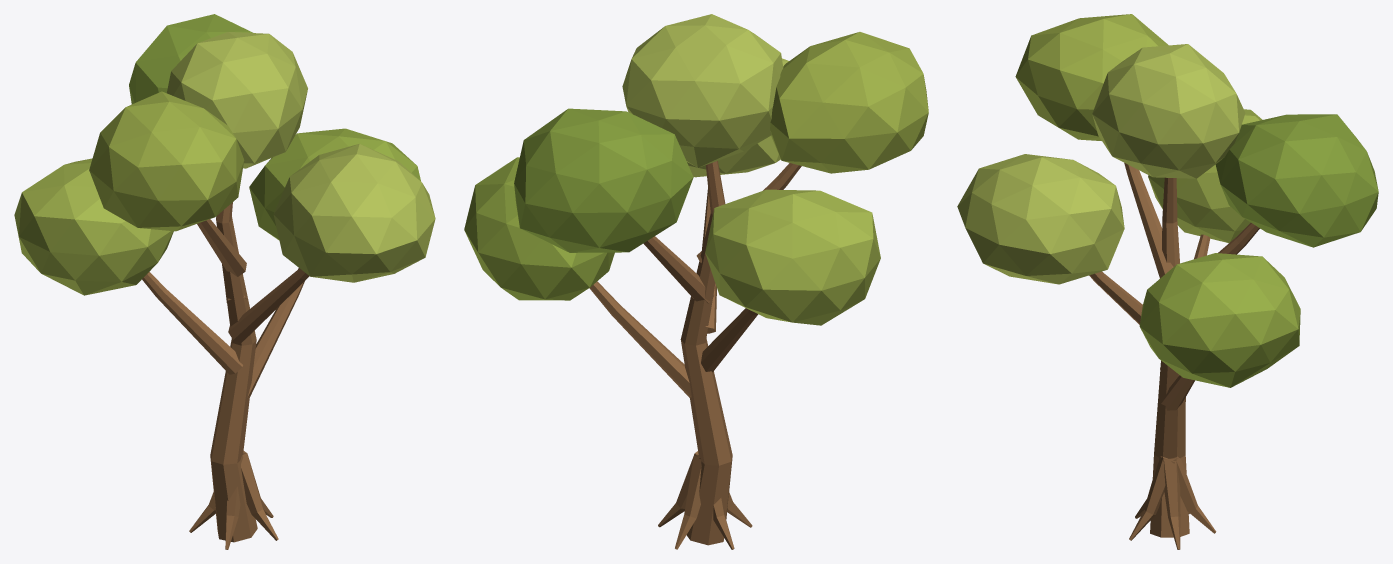
The model's file is Oak_Young.fbx.
The picture shows the model from 3 angles, left to right: view 1: azimuth 30°, elevation 25°; view 2: azimuth 150°, elevation 25°; view 3: azimuth 270°, elevation 25°; orthographic projection. The views are drawn at different scales.
Visible parts, largest first — view 1: Oak_Young; view 2: Oak_Young; view 3: Oak_Young.
Part boxes in pixels (left/top/right/bottom): Oak_Young: left=14, top=14, right=435, bottom=549; Oak_Young: left=464, top=14, right=928, bottom=549; Oak_Young: left=957, top=14, right=1378, bottom=549.
Bounding box in the file's own units: 327 × 401 × 318.
